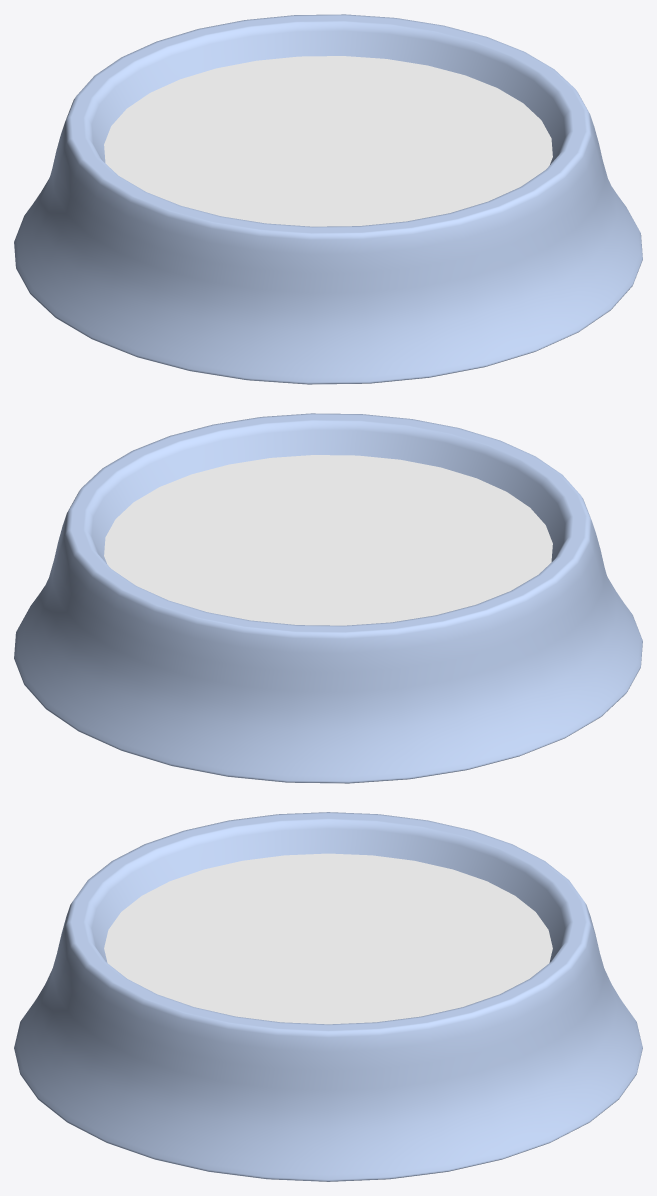
Rendered from DogAccesories-004.fbx.
3 renders of one model, top to bottom at view 1: azimuth 30°, elevation 25°; view 2: azimuth 150°, elevation 25°; view 3: azimuth 270°, elevation 25°, orthographic.
Parts seen in each view (by area): view 1: DogAccesories-004; view 2: DogAccesories-004; view 3: DogAccesories-004.
Part boxes in pixels (bbox=[...]): DogAccesories-004: bbox=[14, 14, 642, 384]; DogAccesories-004: bbox=[14, 413, 642, 783]; DogAccesories-004: bbox=[14, 812, 642, 1181].
Size of the model in its own units: 0.3611 by 0.0811 by 0.3611.
